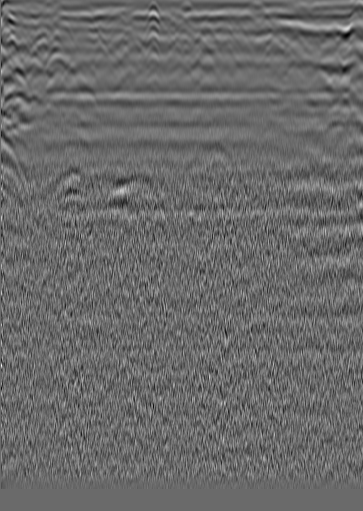가스: (98, 175, 145, 214)
상수: (329, 20, 349, 40)
우수: (198, 22, 218, 42)
